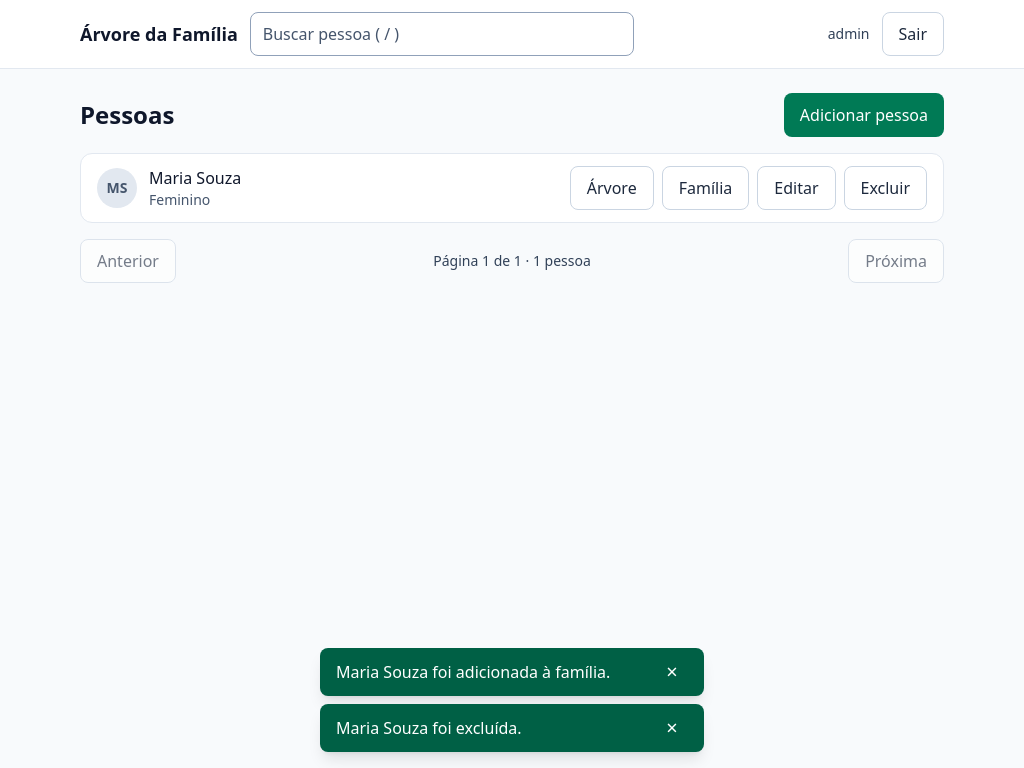
Test: pessoas › sair volta para o login
Click the button "Sair".
click(913, 34)  # box [882,12,944,56]
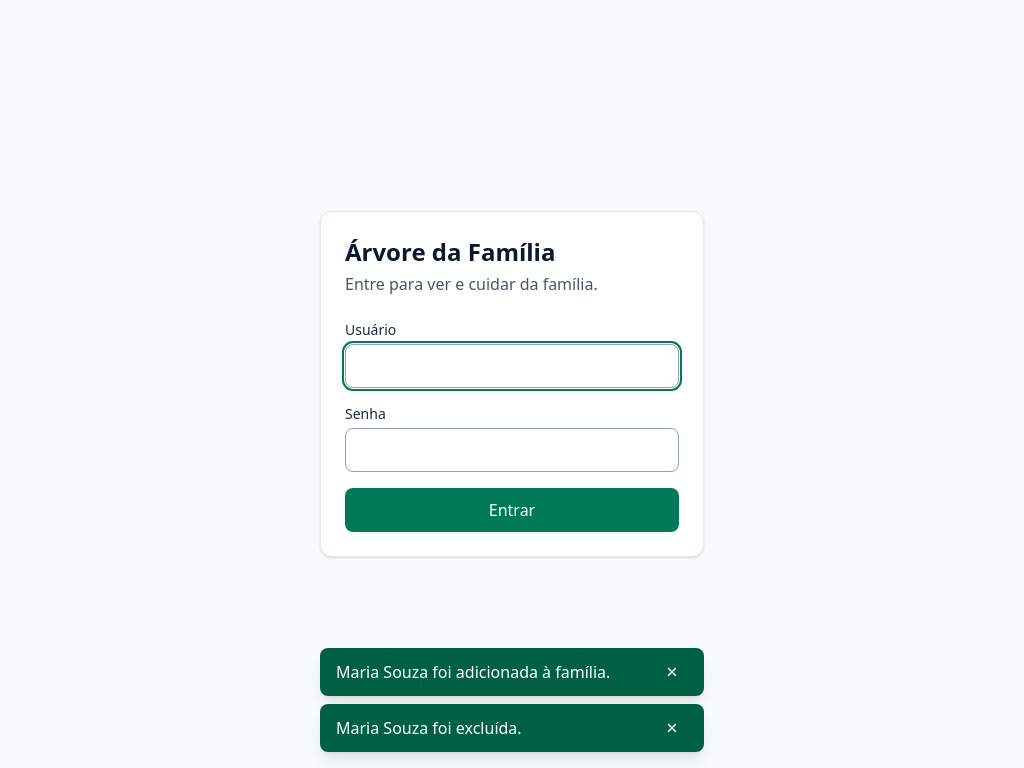
Expected: the field labelled "Usuário" is shown, [345,344,679,388]
